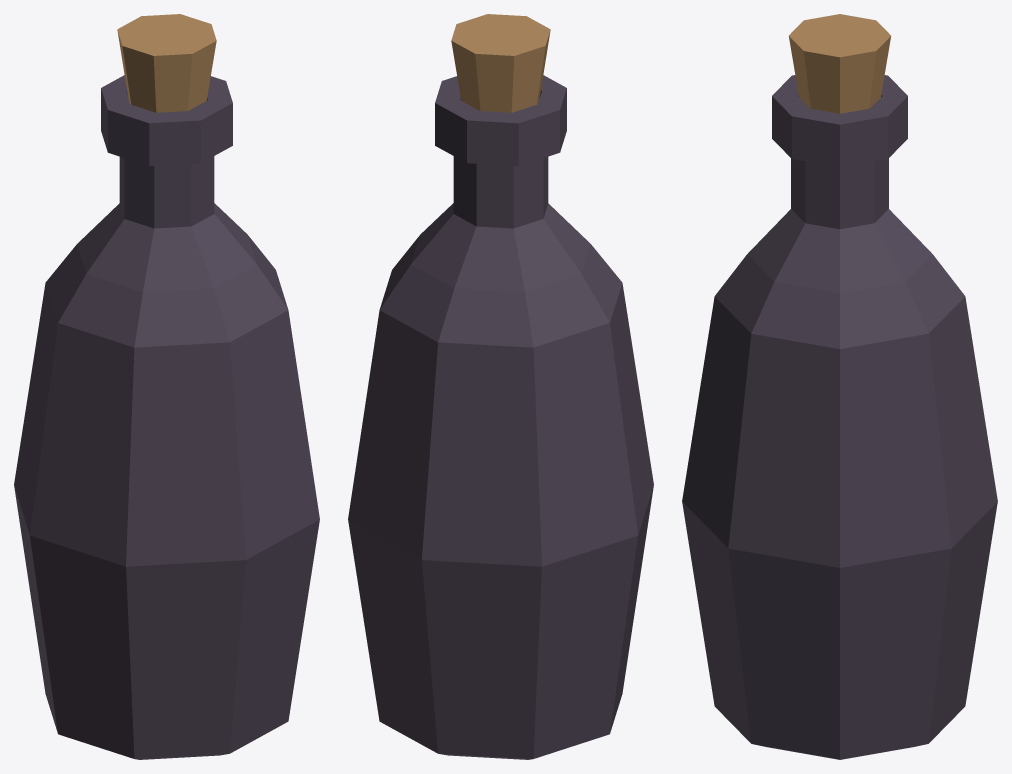
The model's file is Bottle_01.fbx.
3 views of the same model, side by side, from view 1: azimuth 30°, elevation 25°; view 2: azimuth 150°, elevation 25°; view 3: azimuth 270°, elevation 25° (orthographic).
Parts seen in each view (by area): view 1: Bottle1; view 2: Bottle1; view 3: Bottle1.
Part boxes in pixels (x1,y1,x2,y2): Bottle1: [14, 14, 319, 759]; Bottle1: [348, 14, 653, 759]; Bottle1: [682, 14, 997, 759].
Size of the model in its own units: 0.1287 by 0.3058 by 0.1287.
